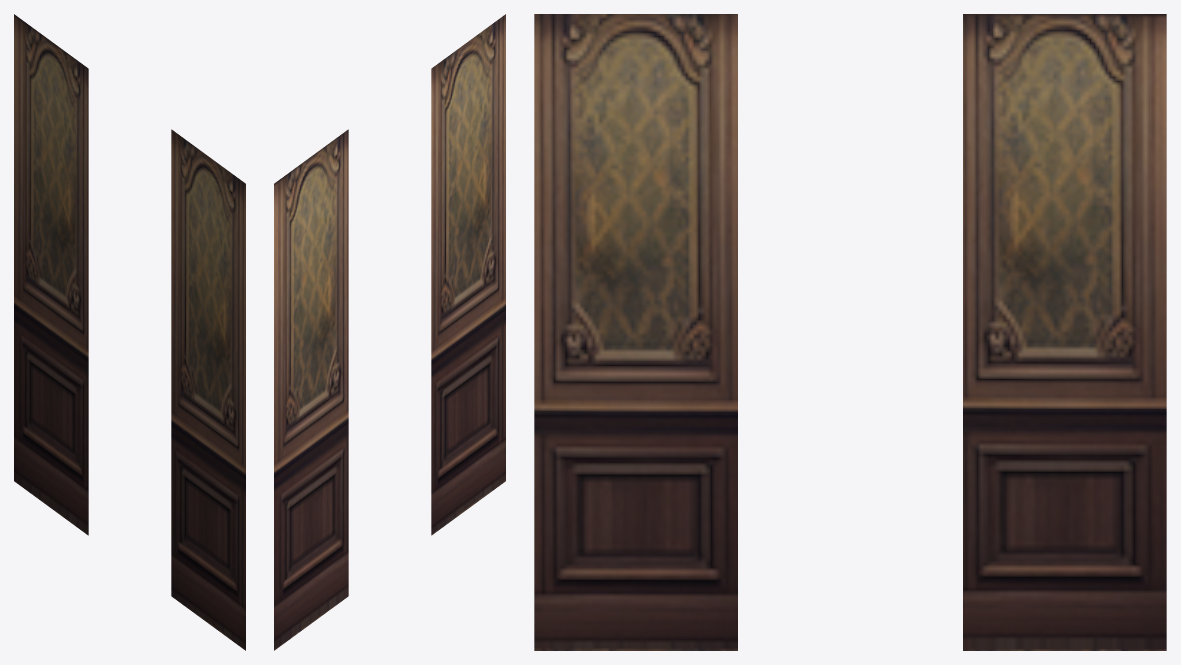
Rendered from hall_wall_3_hide.glb.
3 renders of one model, left to right at view 1: azimuth 30°, elevation 25°; view 2: azimuth 150°, elevation 25°; view 3: azimuth 270°, elevation 25°, orthographic. The views are drawn at different scales.
Parts seen in each view (by area): view 1: Piano; view 2: Piano; view 3: Piano.
Part boxes in pixels (box(x1,y1,x2,y2)): Piano: box(14, 14, 245, 650); Piano: box(274, 14, 505, 650); Piano: box(534, 14, 1166, 650).
Bounding box in the file's own units: 1.11e-15 × 5 × 4.5.
Materials: 1 (1 with a texture image).
